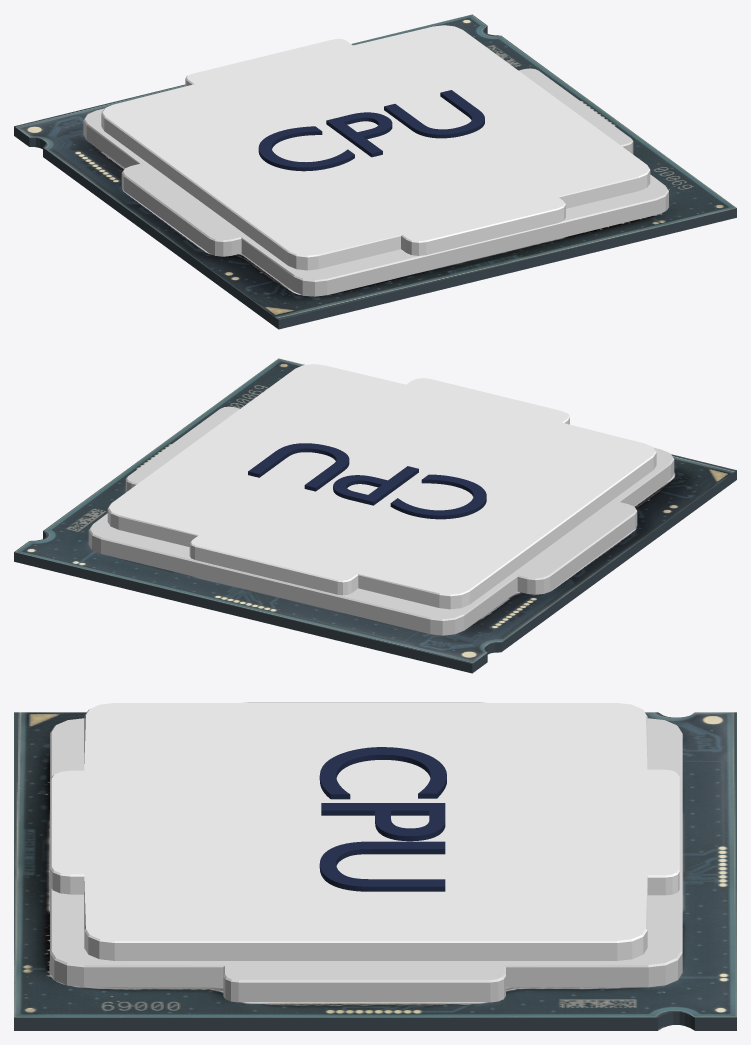
Rendered from CPU.fbx.
The picture shows the model from 3 angles, top to bottom: view 1: azimuth 30°, elevation 25°; view 2: azimuth 150°, elevation 25°; view 3: azimuth 270°, elevation 25°; orthographic projection. The views are drawn at different scales.
Parts seen in each view (by area): view 1: Cube.002, Cube, Cube.001, Text; view 2: Cube.002, Cube, Cube.001, Text; view 3: Cube.002, Cube, Cube.001, Text.
Boxes of the visible parts, bbox=[...] form: Cube.002: bbox=[101, 25, 650, 270]; Cube: bbox=[14, 14, 736, 329]; Cube.001: bbox=[83, 68, 668, 296]; Text: bbox=[258, 90, 484, 171]; Cube.002: bbox=[107, 364, 656, 609]; Cube: bbox=[14, 358, 736, 673]; Cube.001: bbox=[88, 406, 674, 635]; Text: bbox=[248, 443, 486, 519]; Cube.002: bbox=[50, 703, 679, 960]; Cube: bbox=[14, 712, 736, 1030]; Cube.001: bbox=[50, 702, 682, 1002]; Text: bbox=[319, 747, 446, 891].
Bounding box in the file's own units: 398 × 35.9 × 398.
